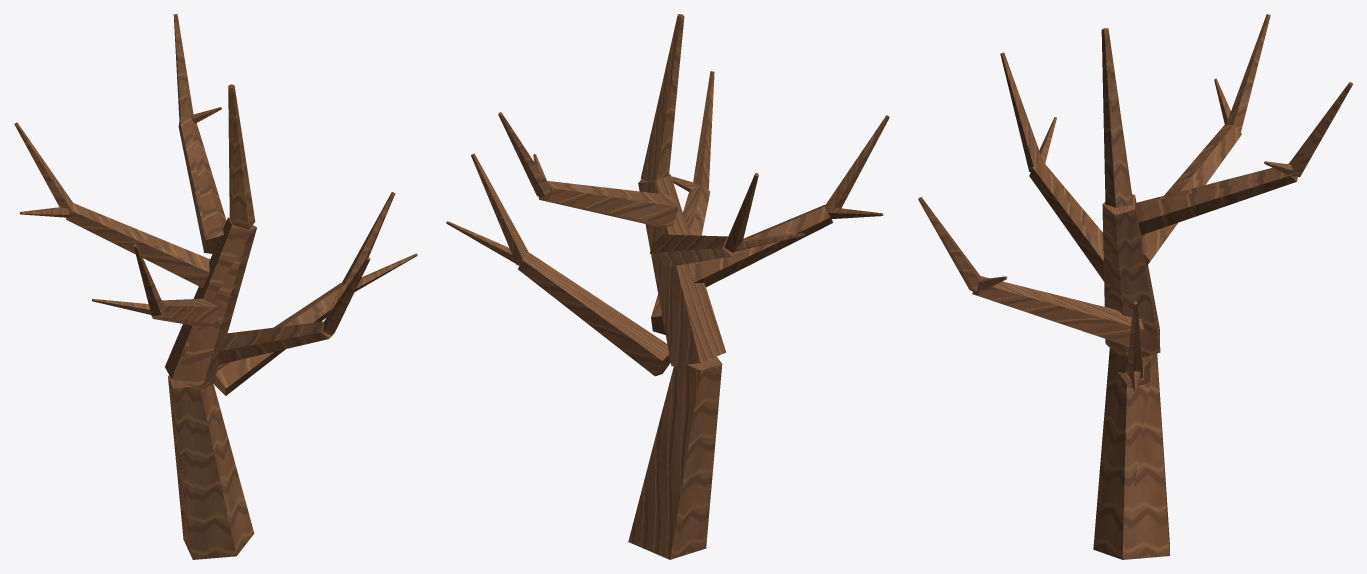
The model's file is arvore-seca-v03.gltf.
3 views of the same model, side by side, from view 1: azimuth 30°, elevation 25°; view 2: azimuth 150°, elevation 25°; view 3: azimuth 270°, elevation 25° (orthographic). The views are drawn at different scales.
Parts seen in each view (by area): view 1: tronco-galhos-copa; view 2: tronco-galhos-copa; view 3: tronco-galhos-copa.
Boxes of the visible parts, x1=… form: tronco-galhos-copa: x1=14, y1=14, x2=417, y2=559; tronco-galhos-copa: x1=446, y1=14, x2=889, y2=559; tronco-galhos-copa: x1=918, y1=14, x2=1352, y2=559.
Bounding box in the file's own units: 3.08 × 3.85 × 2.88.
Materials: 1 (1 with a texture image).
